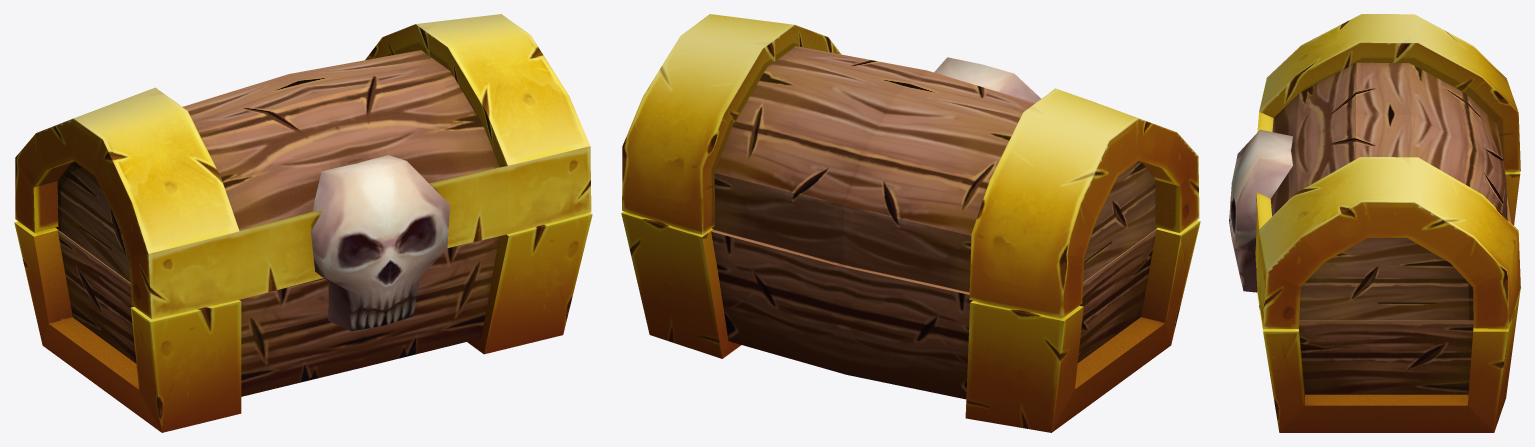
Rendered from Chest_Big.FBX.
3 views of the same model, side by side, from view 1: azimuth 30°, elevation 25°; view 2: azimuth 150°, elevation 25°; view 3: azimuth 270°, elevation 25° (orthographic). The views are drawn at different scales.
Parts seen in each view (by area): view 1: ChestLid, Chest_Big; view 2: ChestLid, Chest_Big; view 3: ChestLid, Chest_Big.
Boxes of the visible parts, x1=… form: ChestLid: x1=15, y1=14, x2=591, y2=331; Chest_Big: x1=14, y1=212, x2=592, y2=432; ChestLid: x1=622, y1=14, x2=1199, y2=317; Chest_Big: x1=621, y1=211, x2=1200, y2=432; ChestLid: x1=1229, y1=14, x2=1520, y2=328; Chest_Big: x1=1257, y1=171, x2=1520, y2=432.
Bounding box in the file's own units: 70.38 × 41.35 × 44.65.
